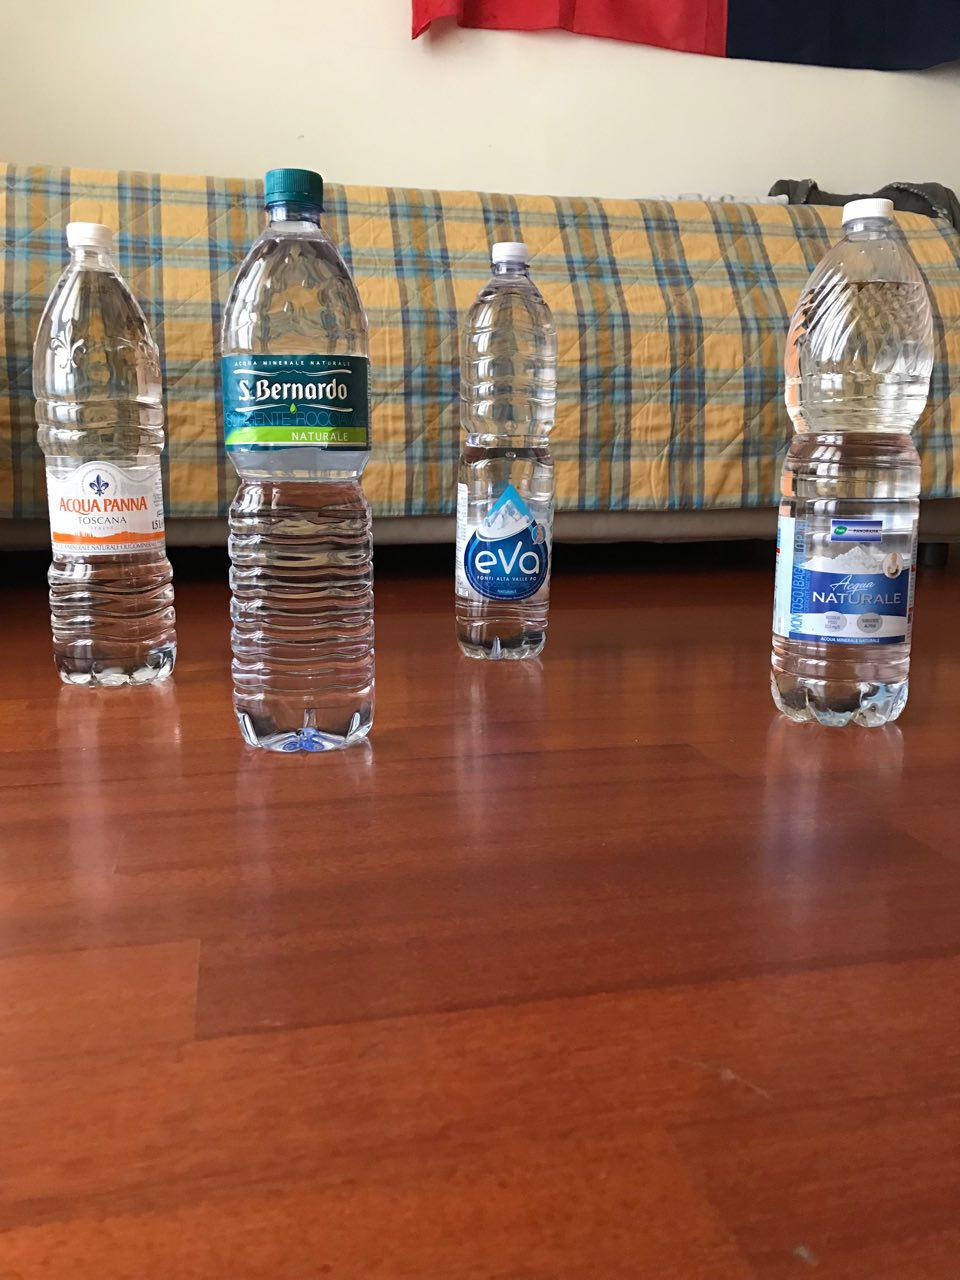san_bernardo: (219, 167, 376, 753)
